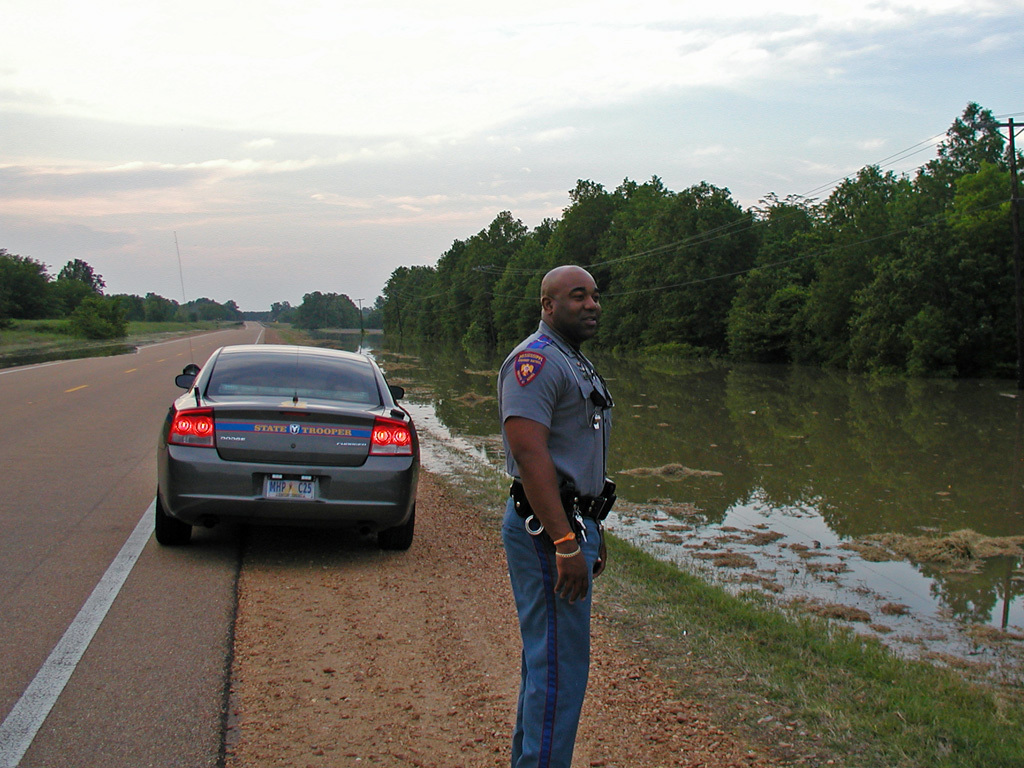Car: (151, 339, 421, 559)
